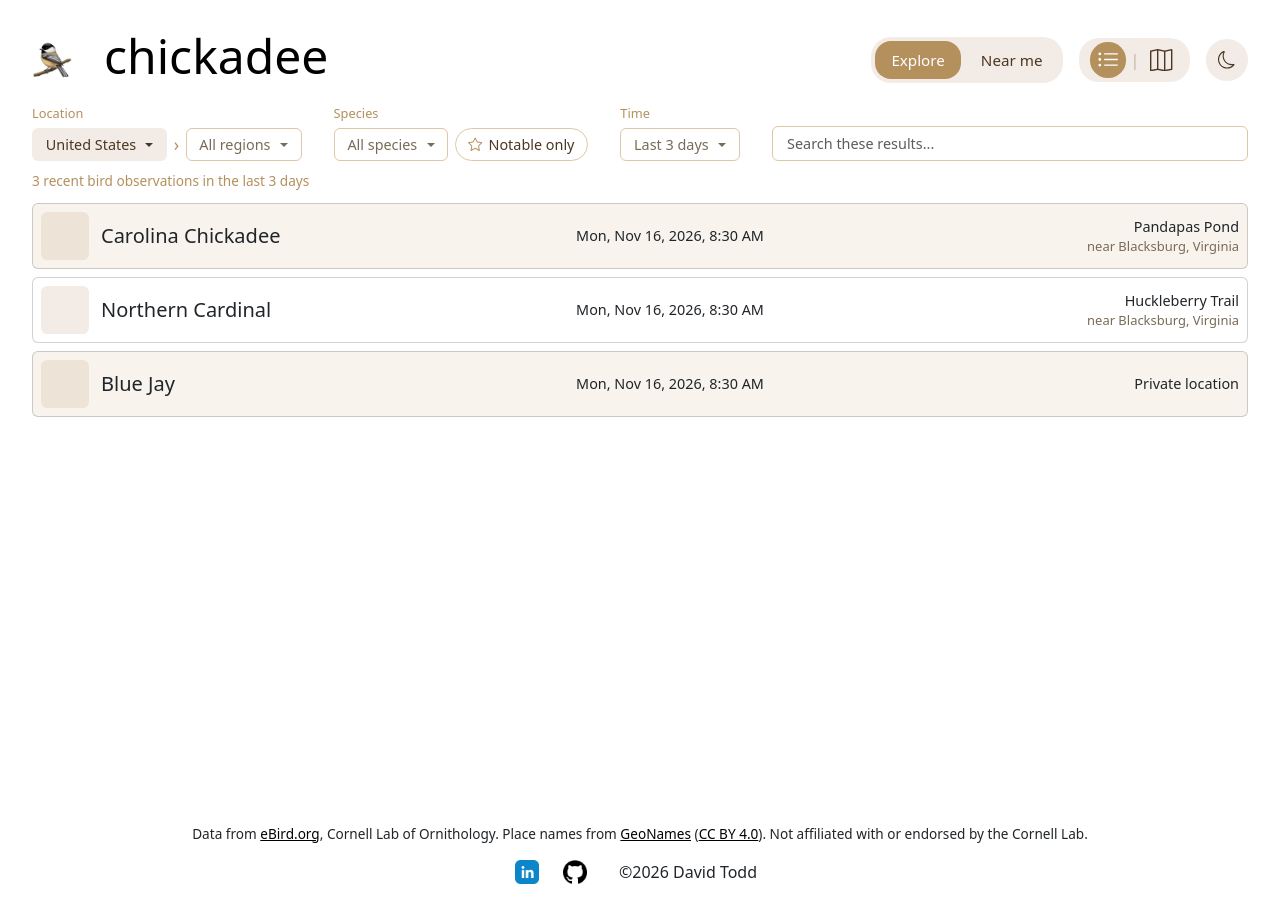
Explore page › narrows to a region and sub-region, and choosing another country clears them
Later steps or results of the test are not shown.
Click the button "All regions". click: [244, 145]
box: [186, 128, 302, 161]
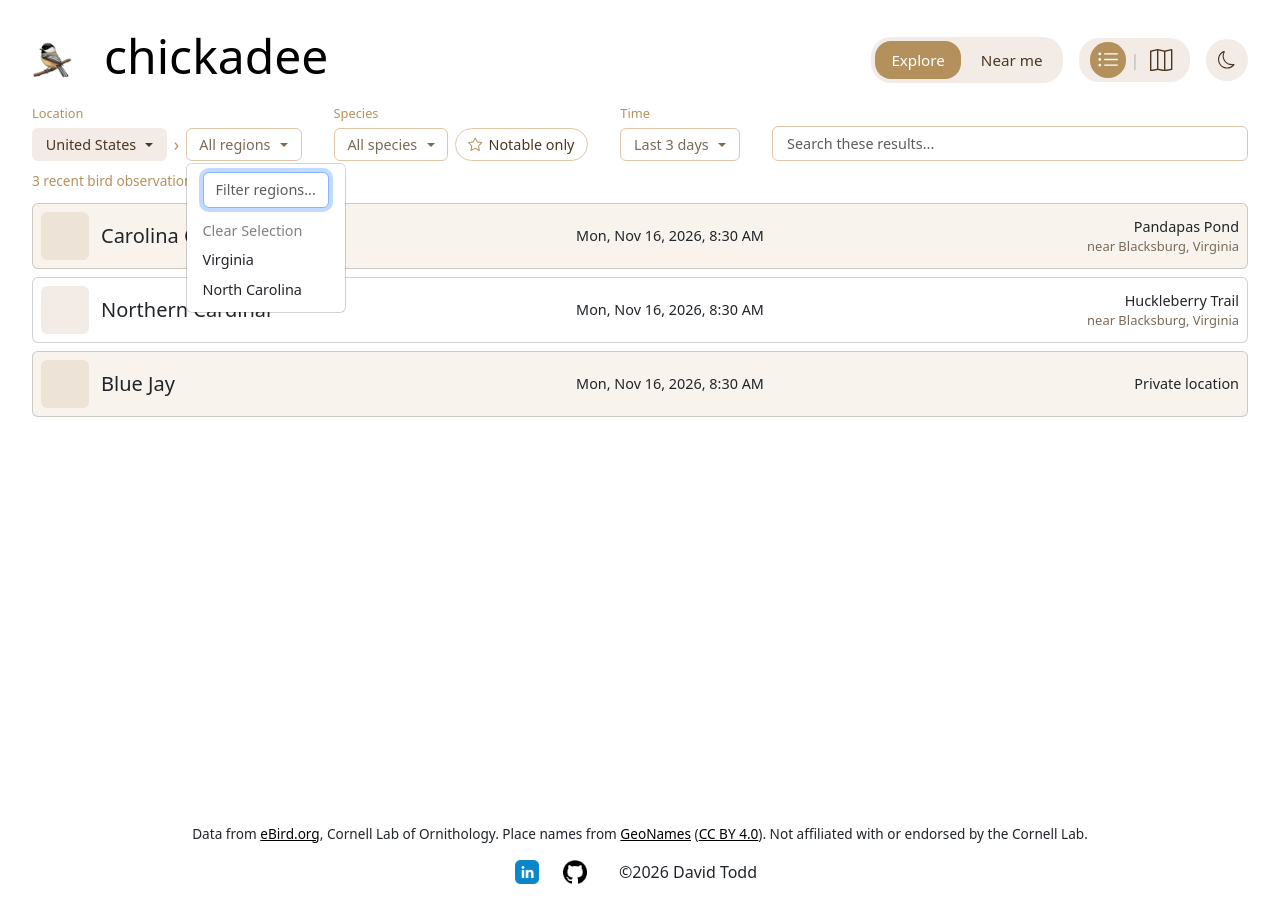
Click the button "Virginia". click: [228, 260]
box: [202, 250, 254, 269]
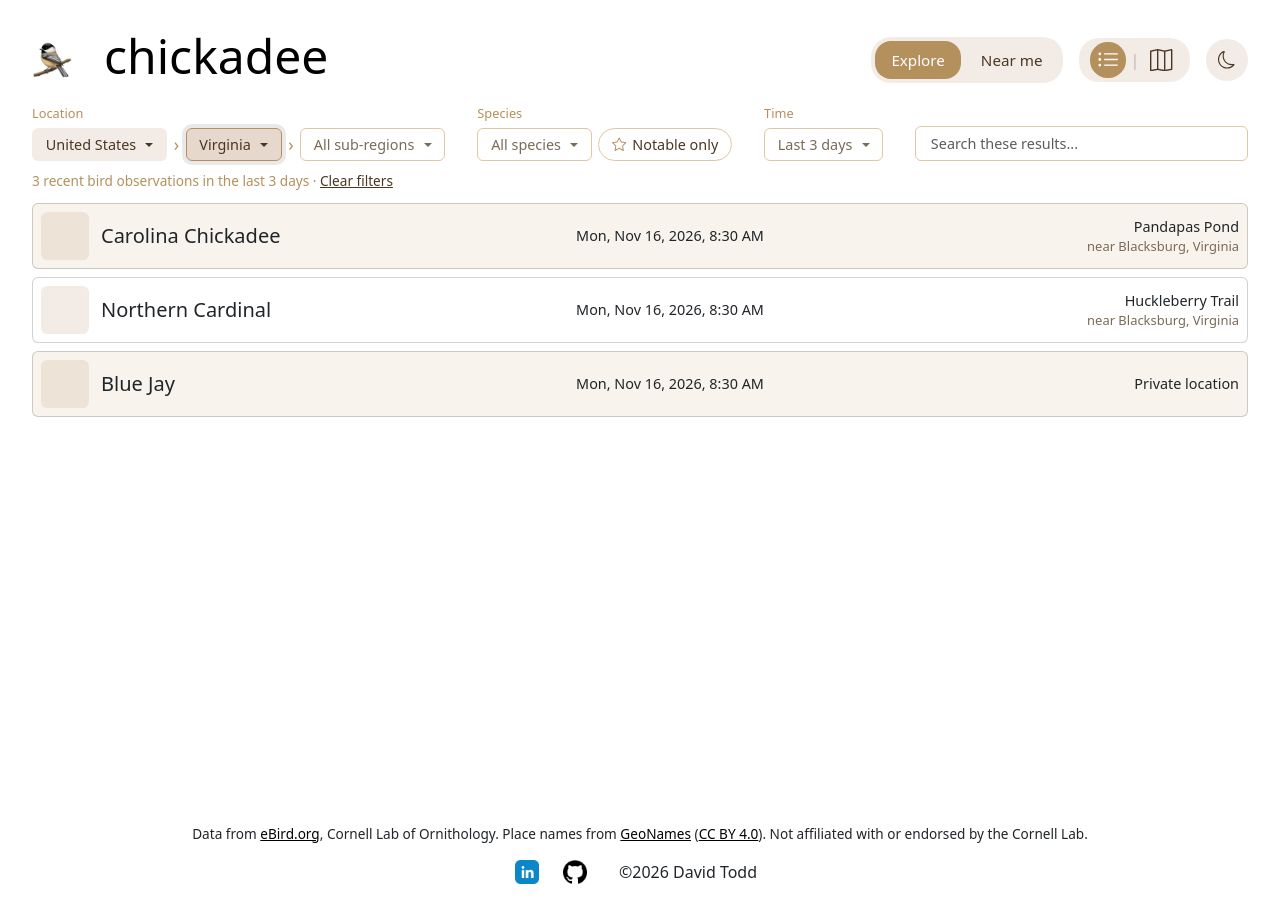
Expected: the button "All sub-regions" is shown, [300, 128, 445, 161]
